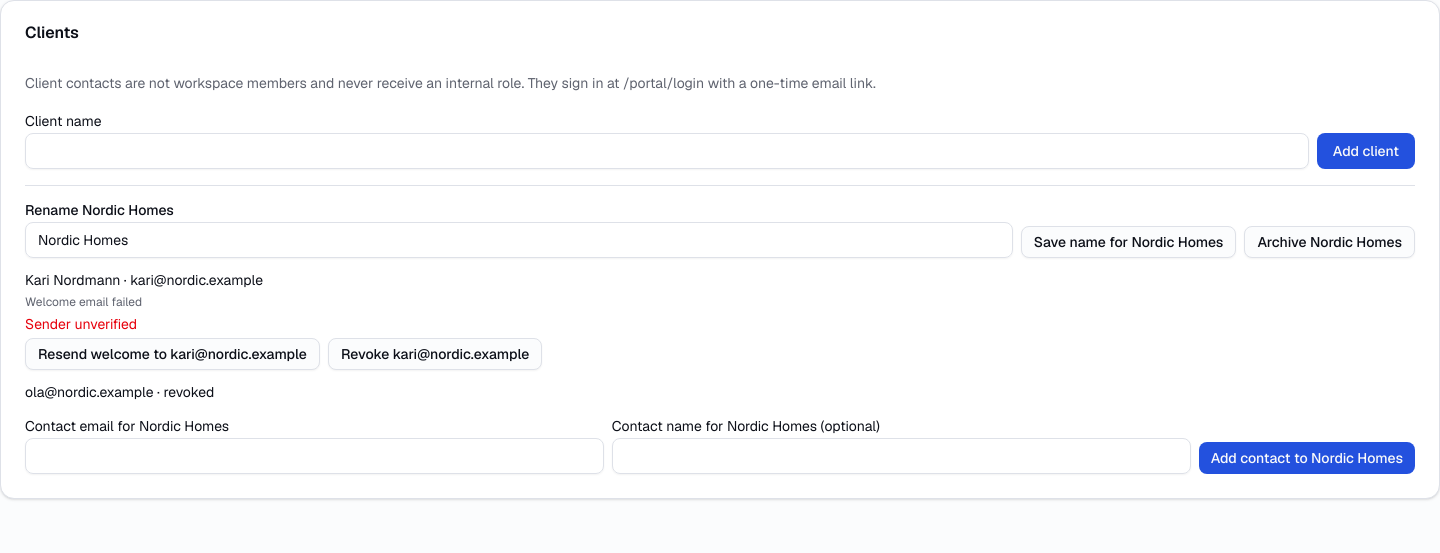
Scenario: client settings › adds a contact to an account and shows a refusal
The image size is (1440, 553).
In the field labelled "Contact email for Nordic Homes": (314, 456) [25, 438, 604, 474], type "kari@nordic.example"
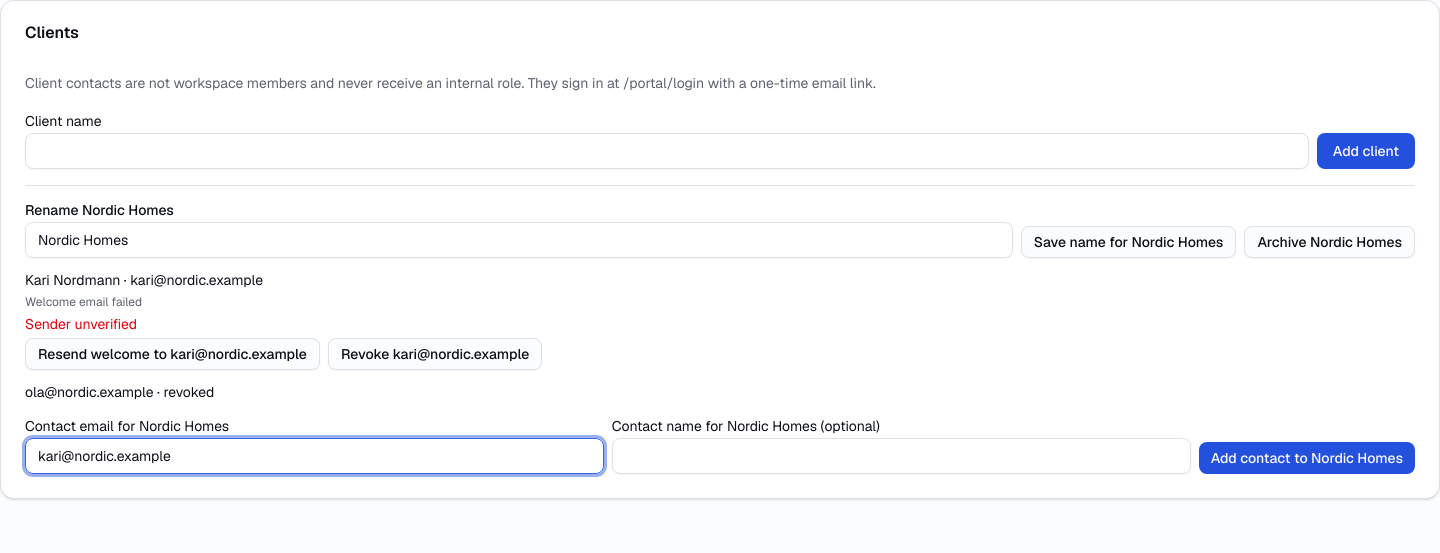
Click the button "Add contact to Nordic Homes": (1307, 458) [1199, 442, 1415, 474]
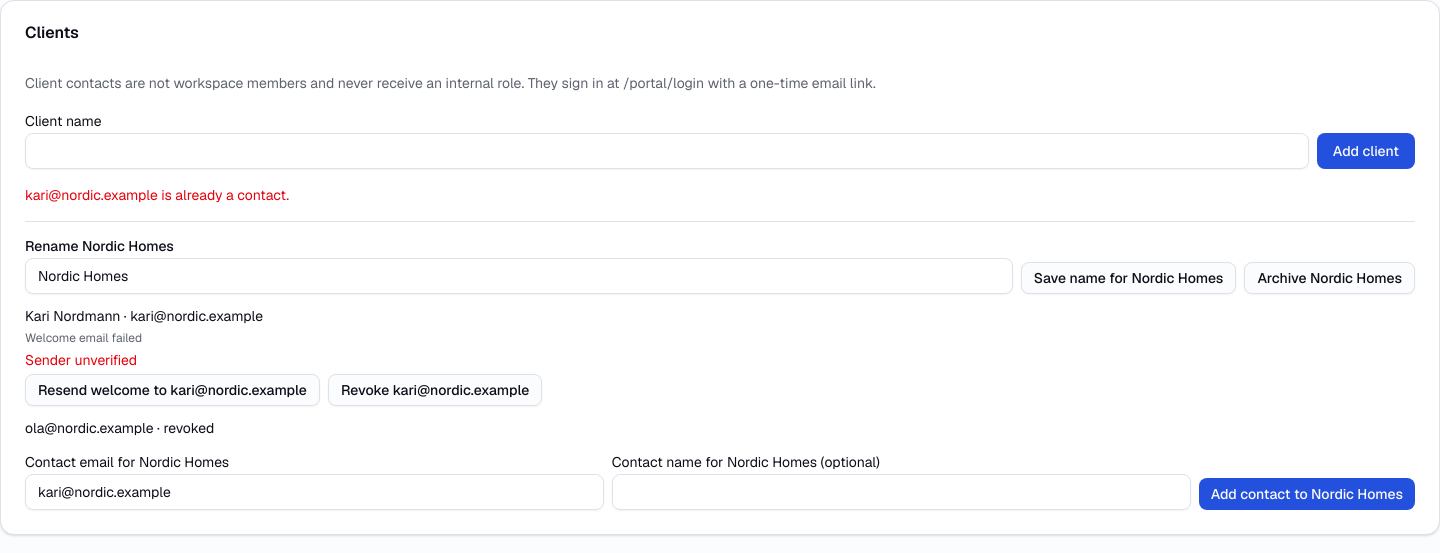
Expected: the message shows "already a contact", [25, 186, 289, 204]
